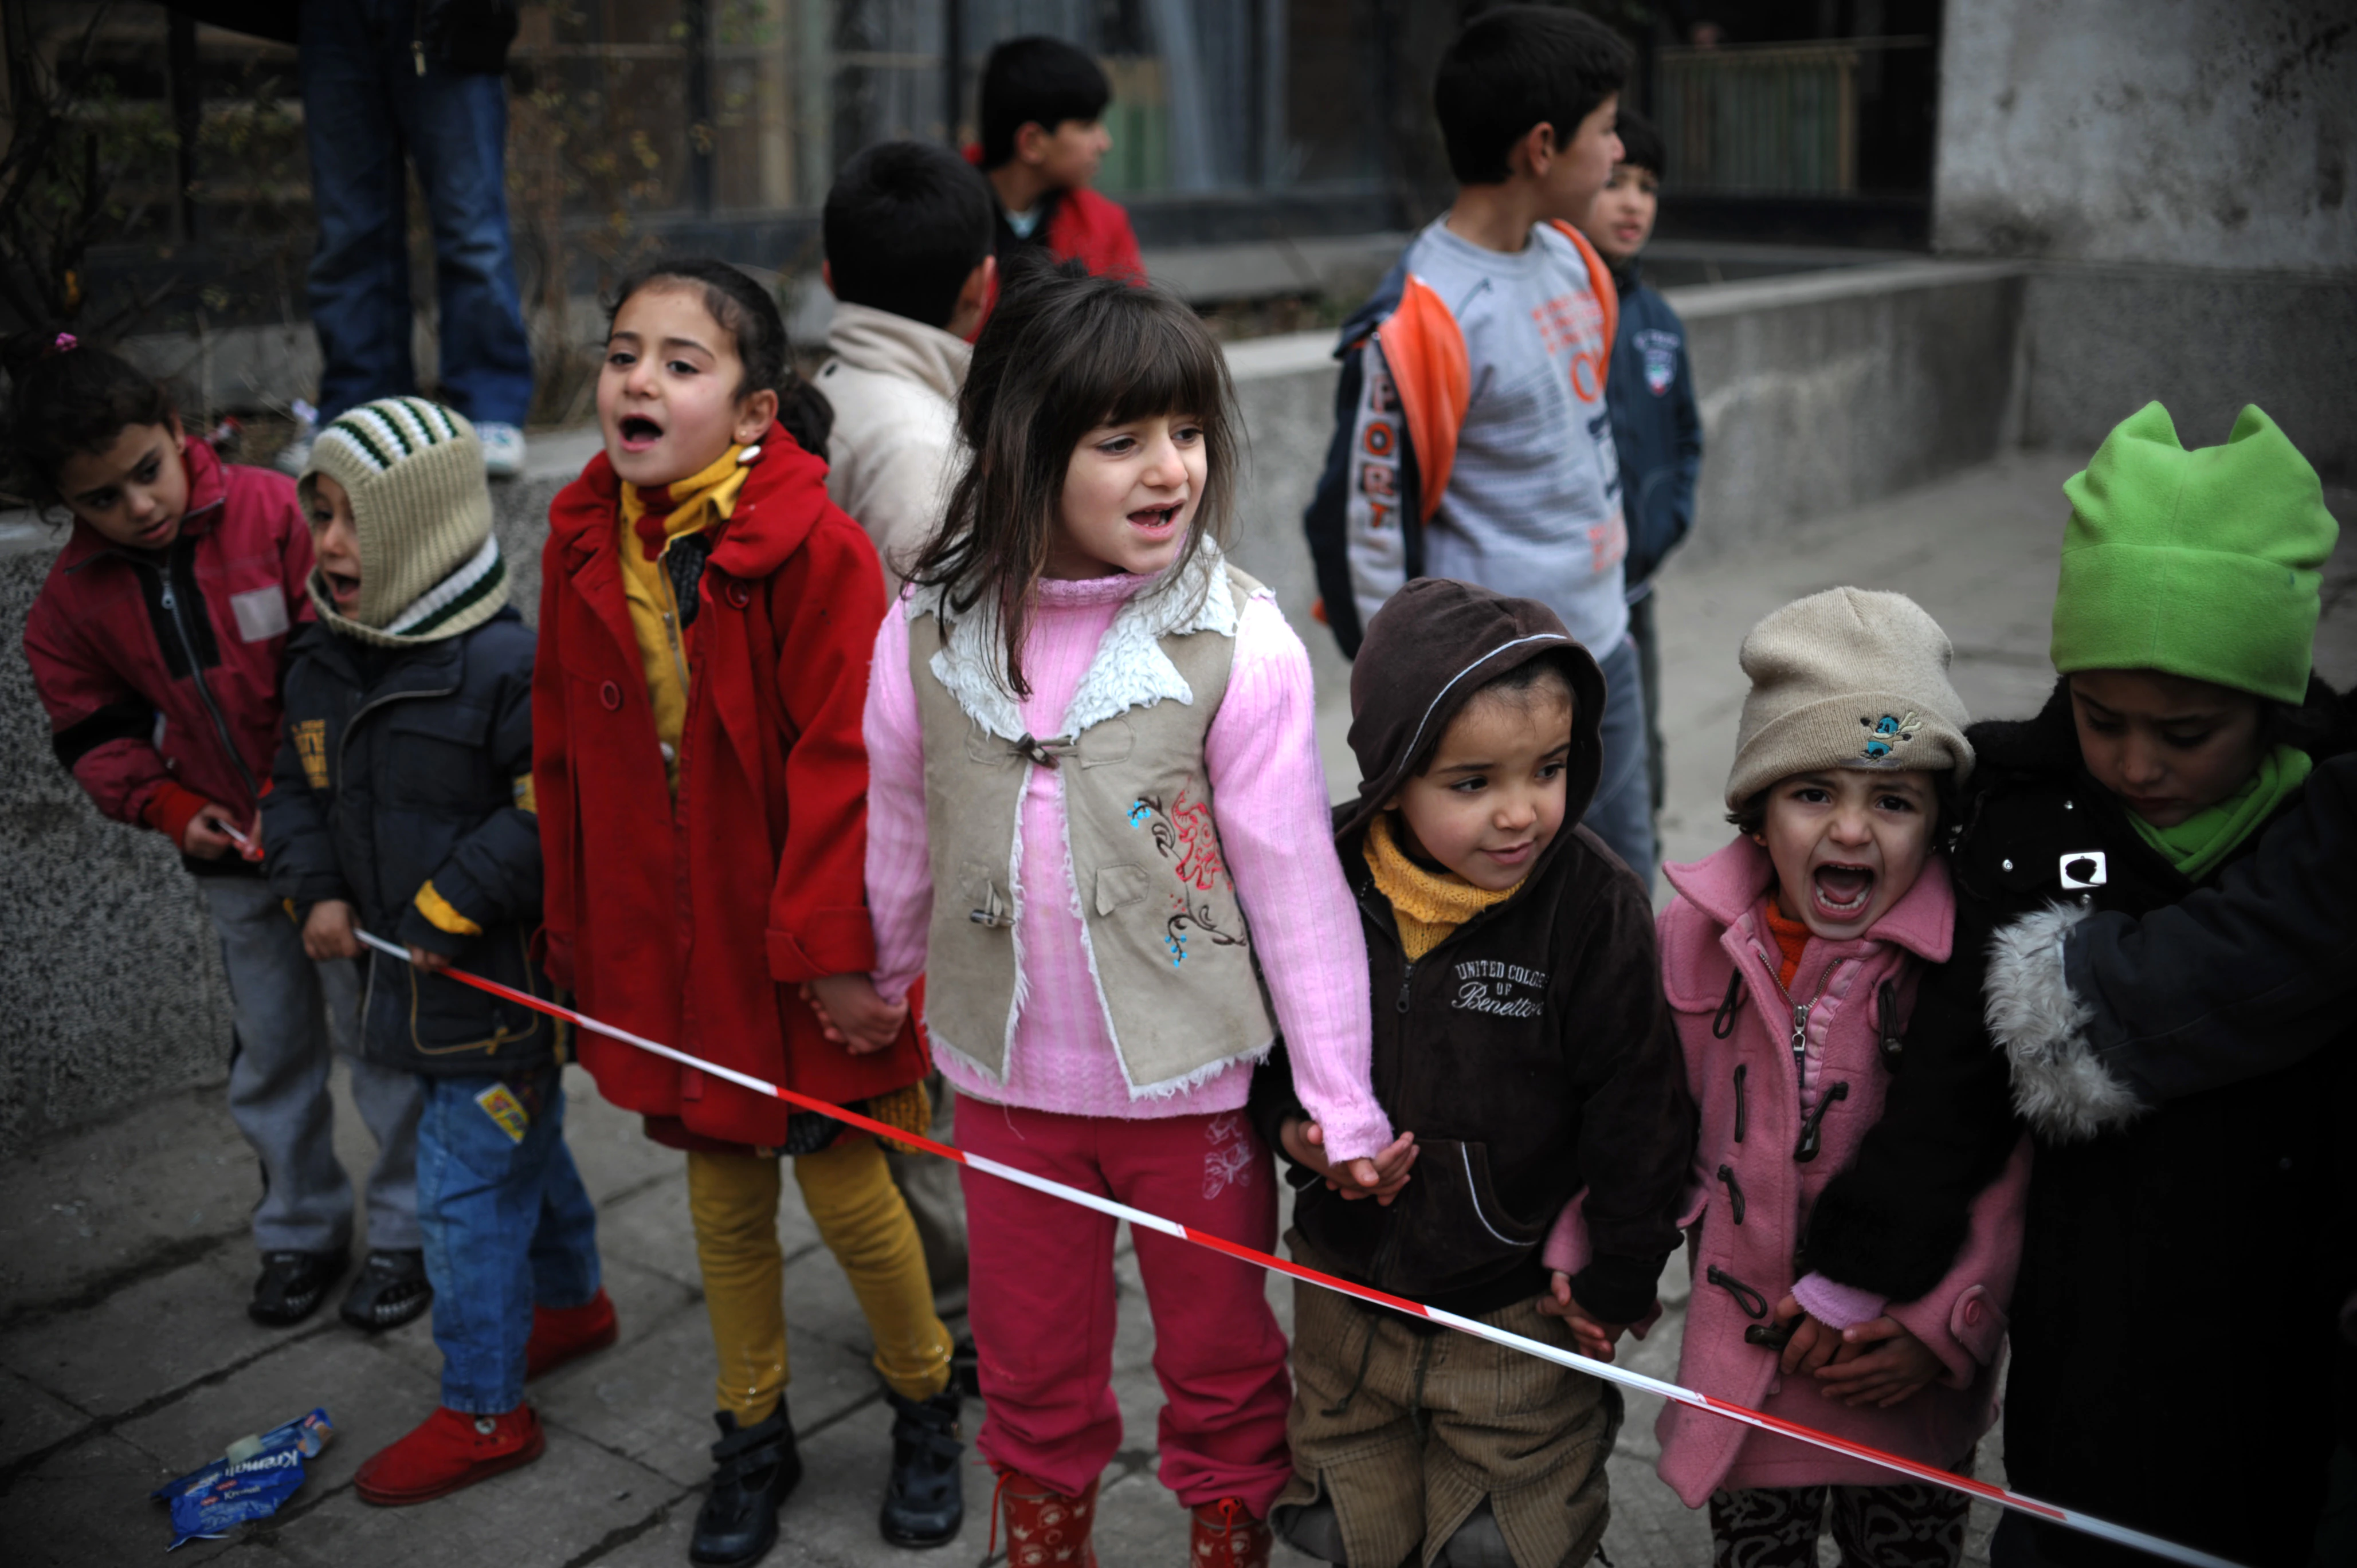human: (907, 210, 1385, 1568), (1868, 368, 2357, 1568), (515, 198, 918, 1568), (1548, 470, 2036, 1568), (1236, 553, 1658, 1568), (1, 324, 347, 1355), (286, 355, 553, 1566), (1316, 3, 1669, 917)
